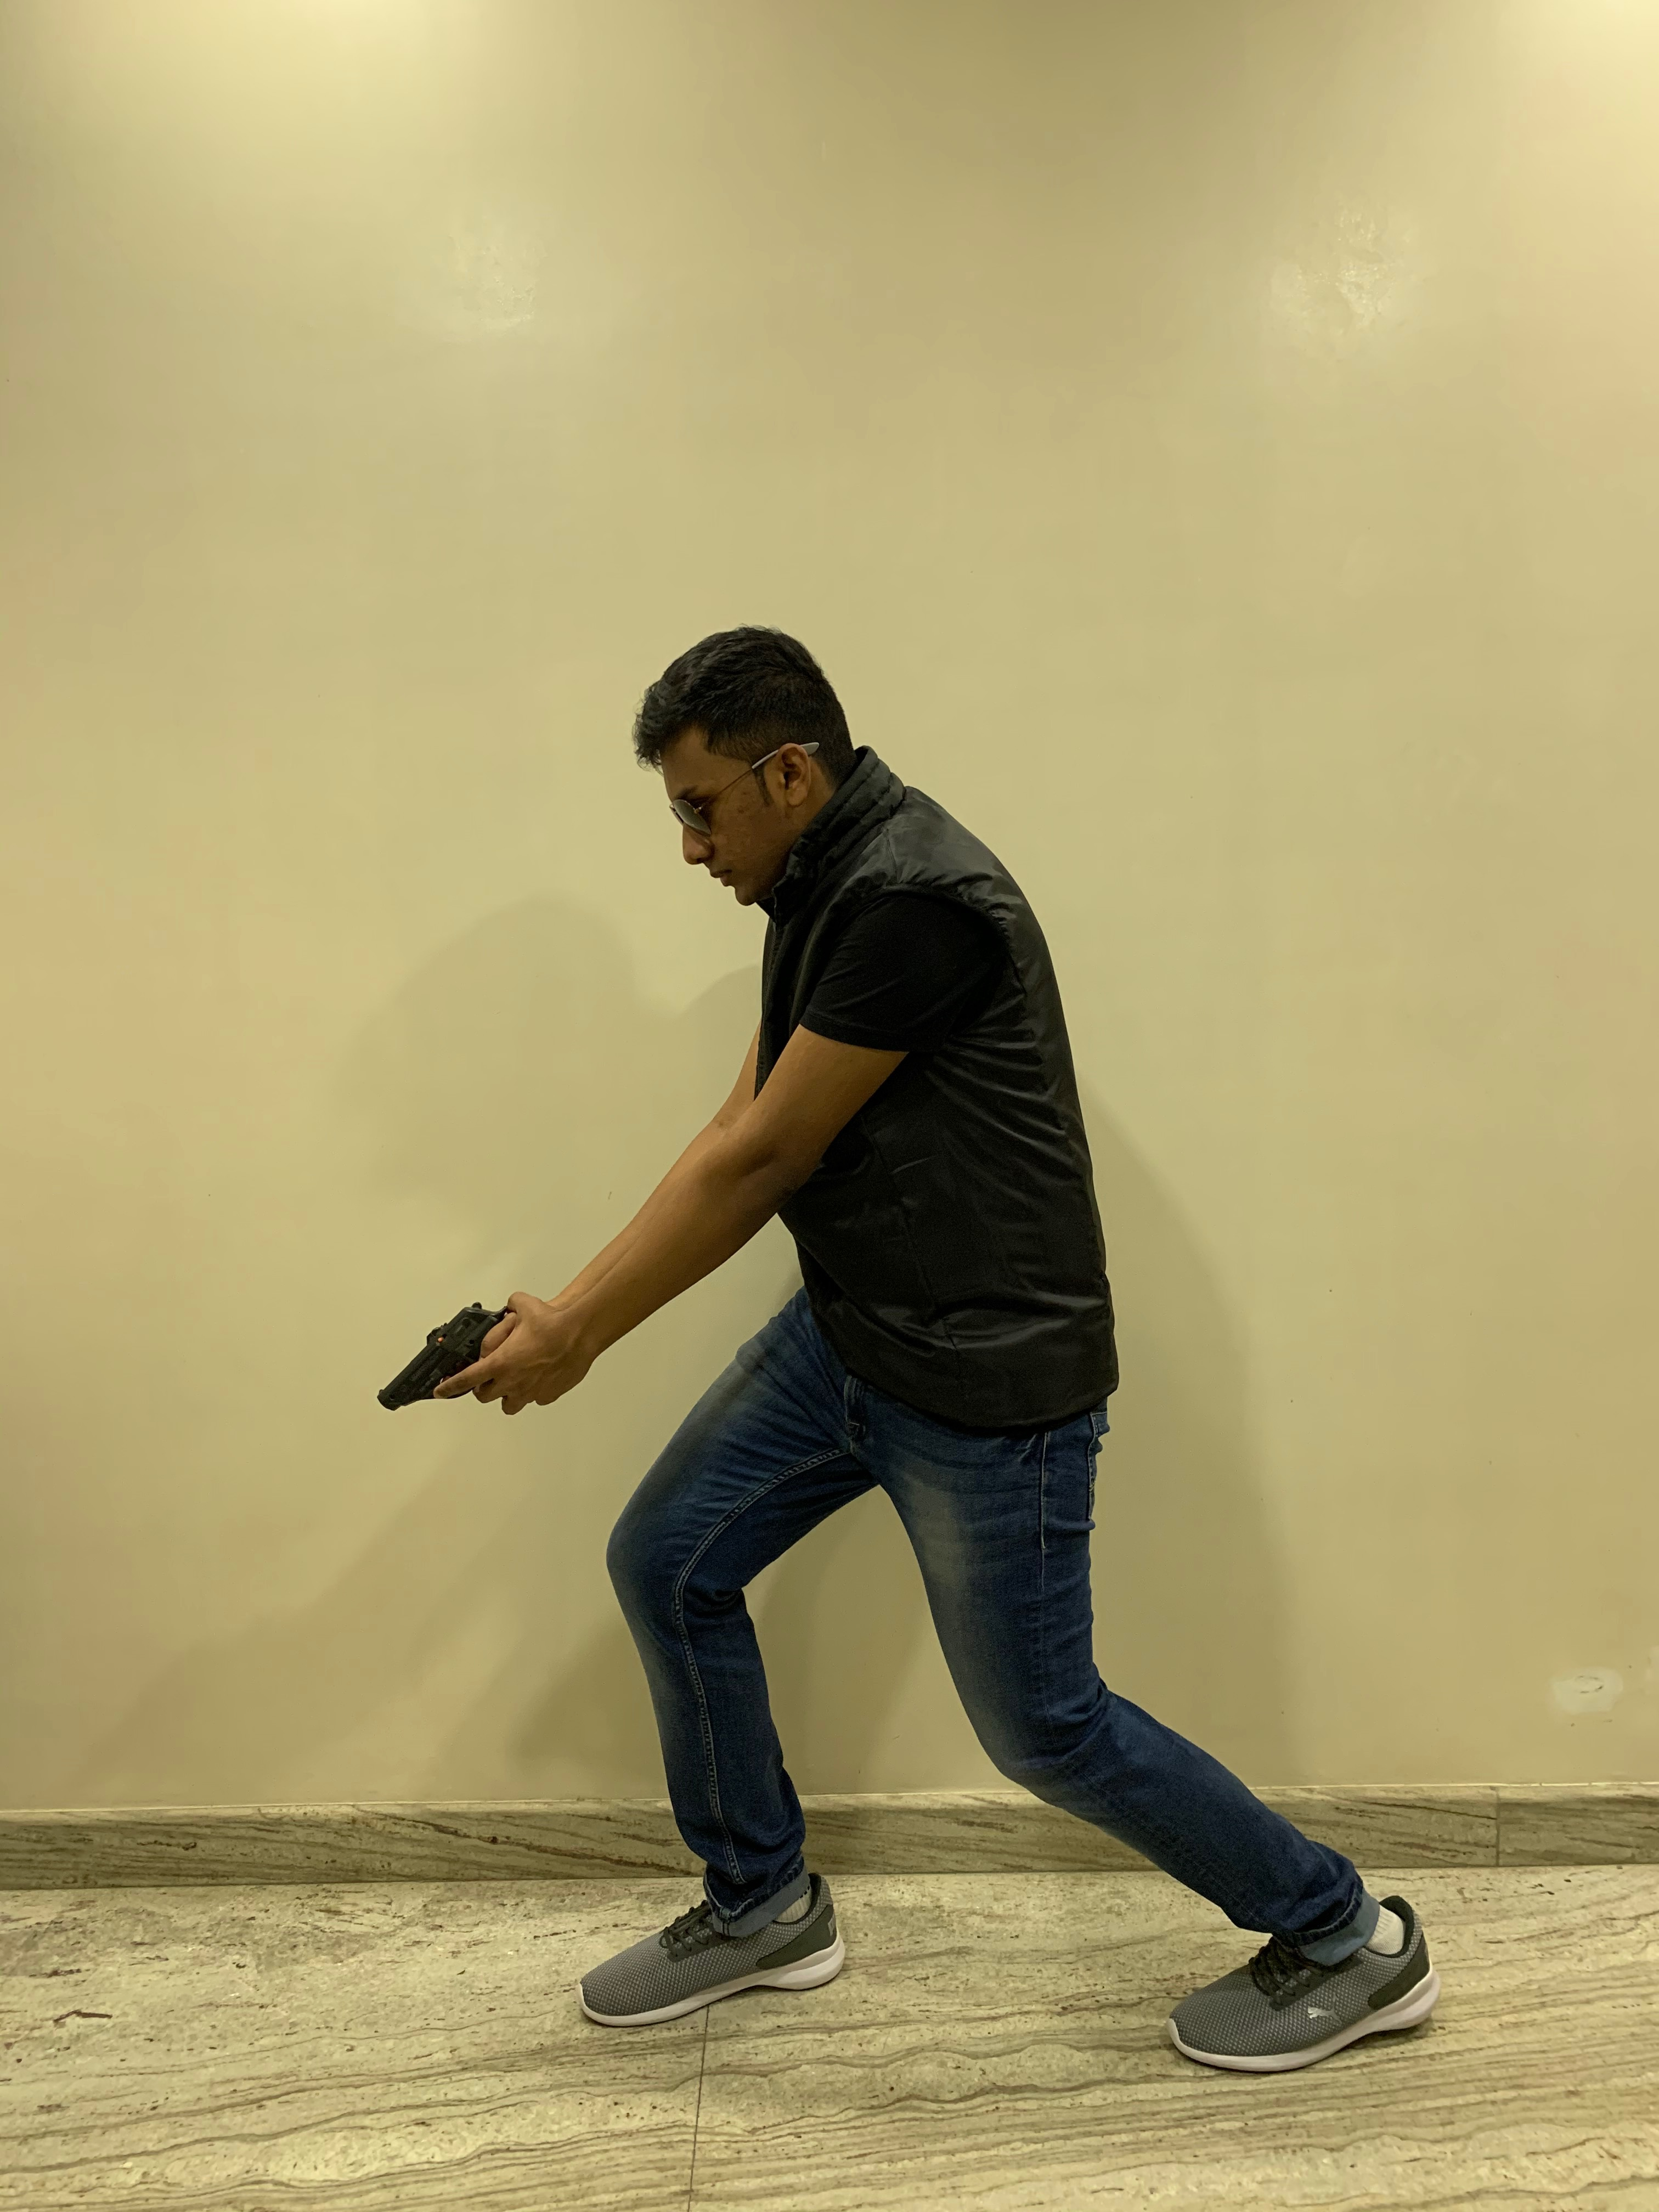gun: (371, 1298, 493, 1414)
